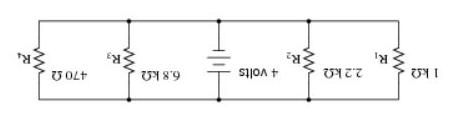Battery: (185, 38, 236, 78)
